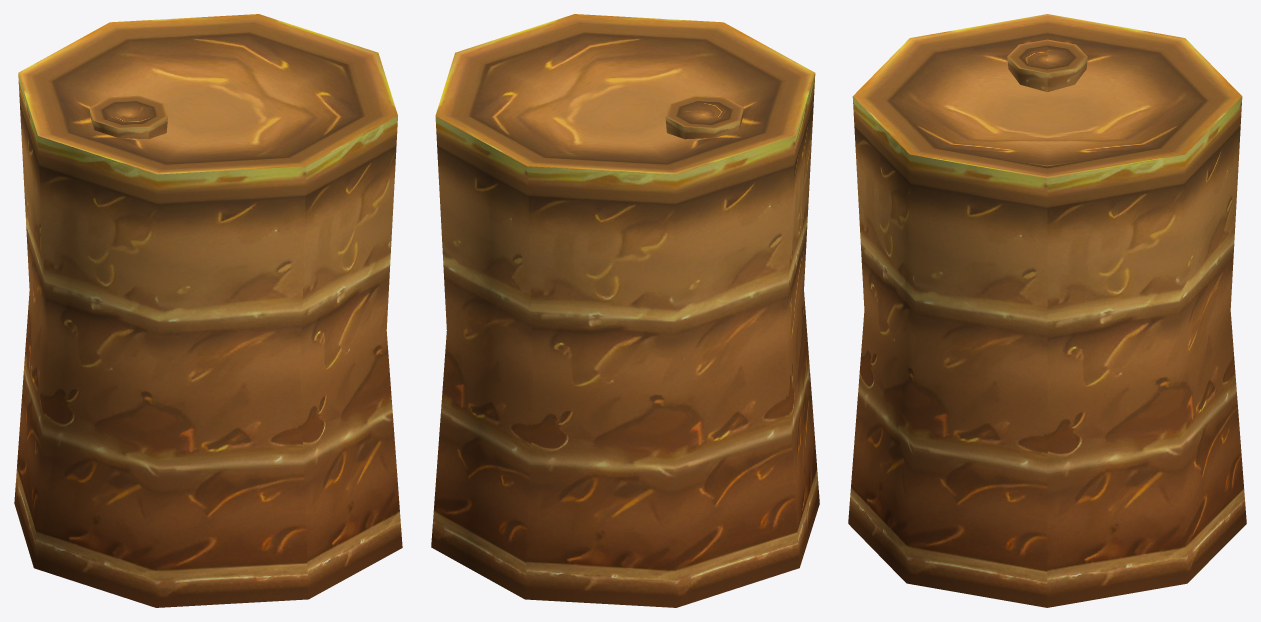
The model's file is dwarvenbarrel01.obj.
3 renders of one model, left to right at view 1: azimuth 30°, elevation 25°; view 2: azimuth 150°, elevation 25°; view 3: azimuth 270°, elevation 25°, orthographic.
Parts seen in each view (by area): view 1: dwarvenbarrel01; view 2: dwarvenbarrel01; view 3: dwarvenbarrel01.
Part boxes in pixels (x1=…): dwarvenbarrel01: x1=14, y1=14, x2=402, y2=607; dwarvenbarrel01: x1=431, y1=14, x2=819, y2=607; dwarvenbarrel01: x1=848, y1=14, x2=1246, y2=607.
Size of the model in its own units: 1.22 by 1.44 by 1.22.
1 material, 1 textured.
